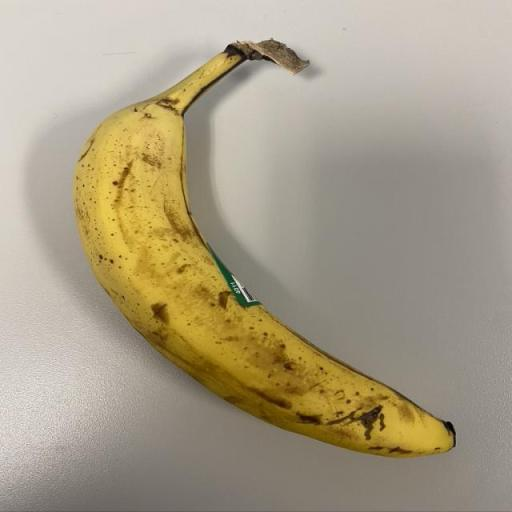fruit: (75, 40, 455, 456)
